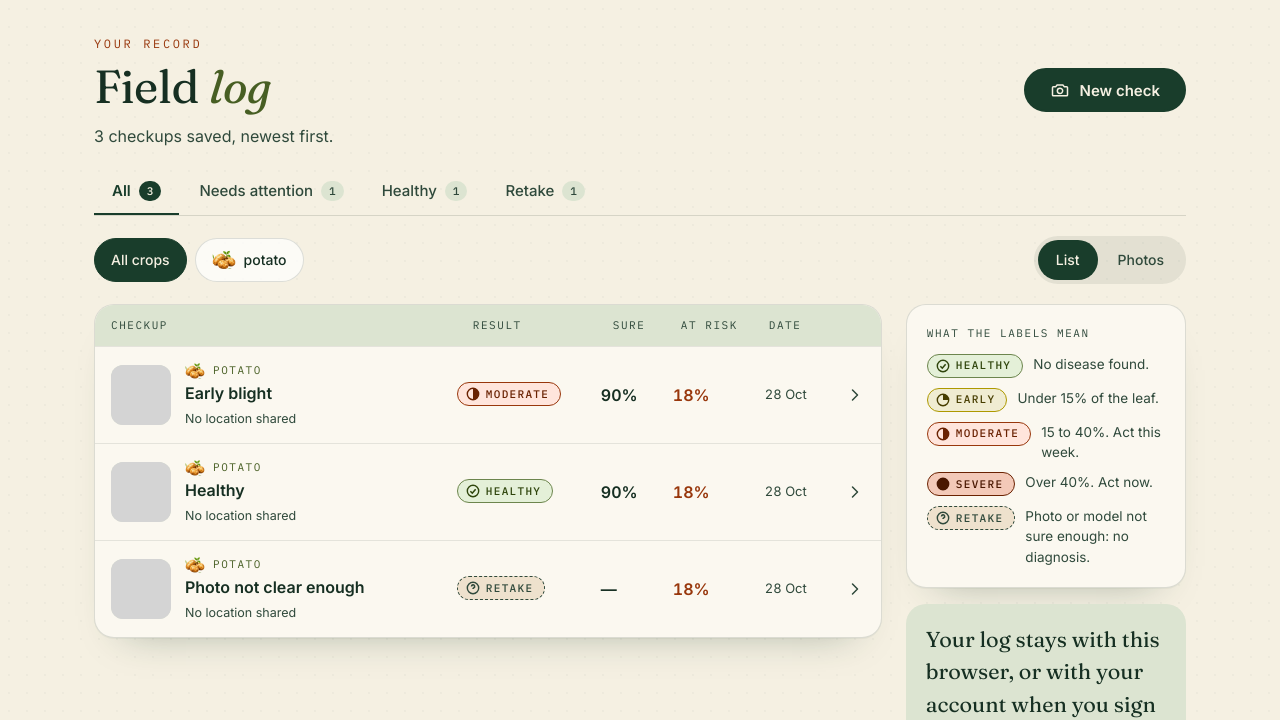
Scenario: workspace pages › field log: the status tabs filter and carry counts
The image size is (1280, 720).
Expected: the tab "Needs attention 1" is shown, [181,168,362,216]
Click the tab "Healthy 1" at (424, 192), box [364,168,485,216]
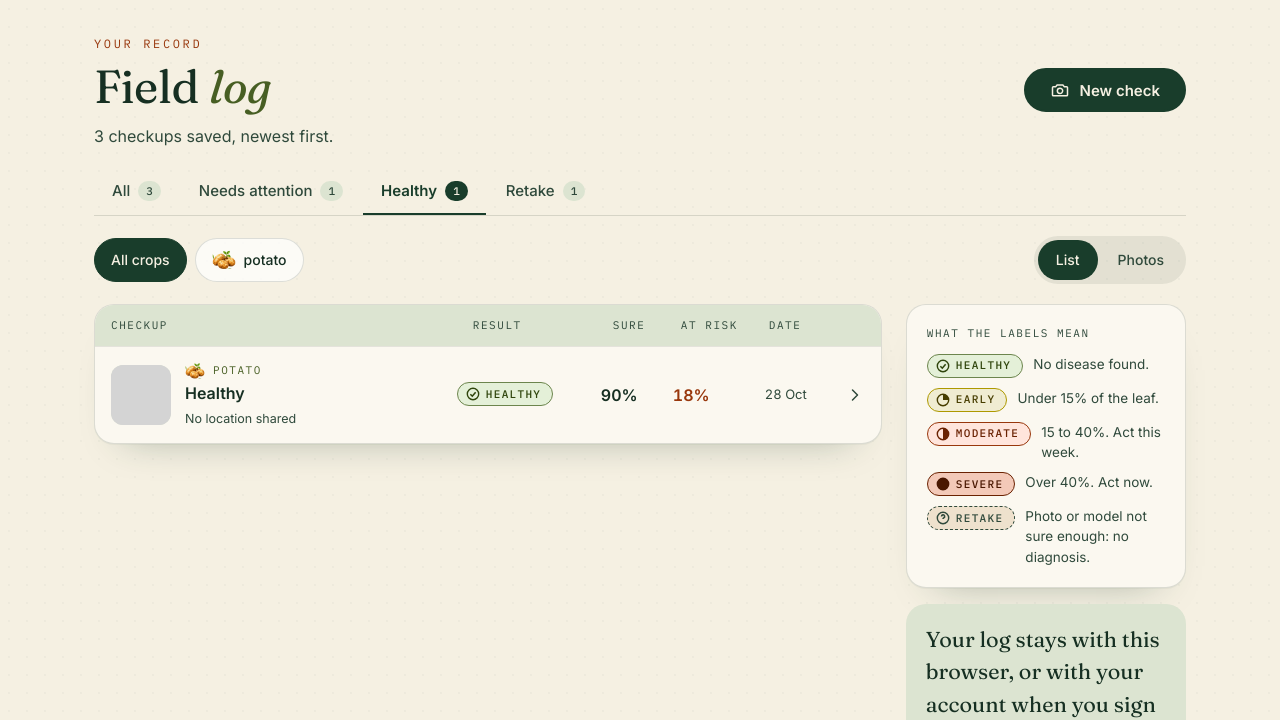
Result: the number of links "potato Healthy No location shared healthy 90% 18% 28 Oct" is 1 at [95,347,881,443]
Click the tab "Retake 1" at (545, 192), box [488,168,603,216]
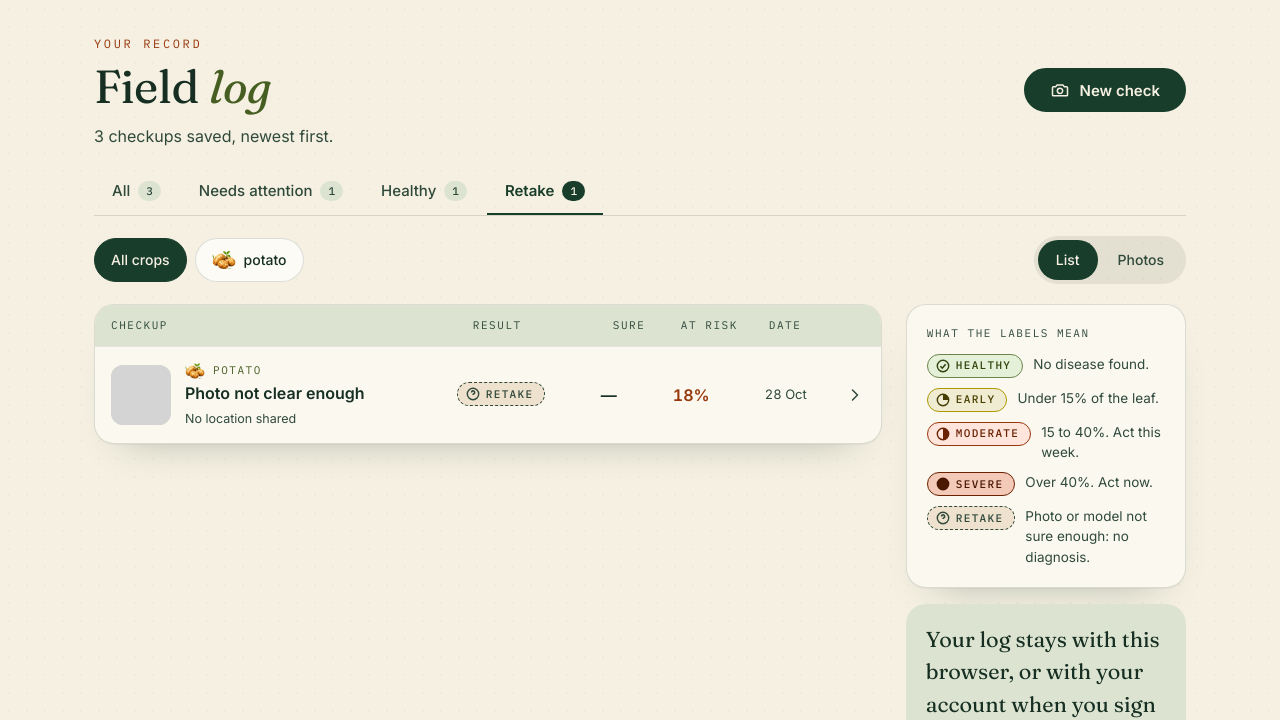
Result: the text "Photo not clear enough" is shown at [185,381,365,405]
